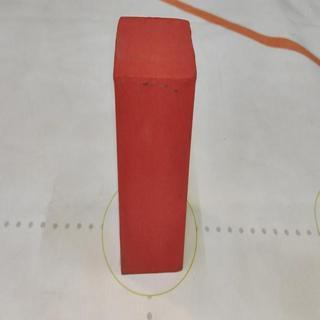redbox: (113, 15, 198, 275)
